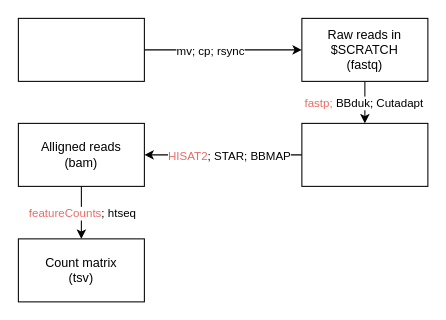
This 446x320 diagram has some shape labels left out. The centre of each missing label's shape, as x and y in pixels:
Clean reads (fastq): the point at 364,154
Raw reads at GeneCore (fastq): the point at 80,49
